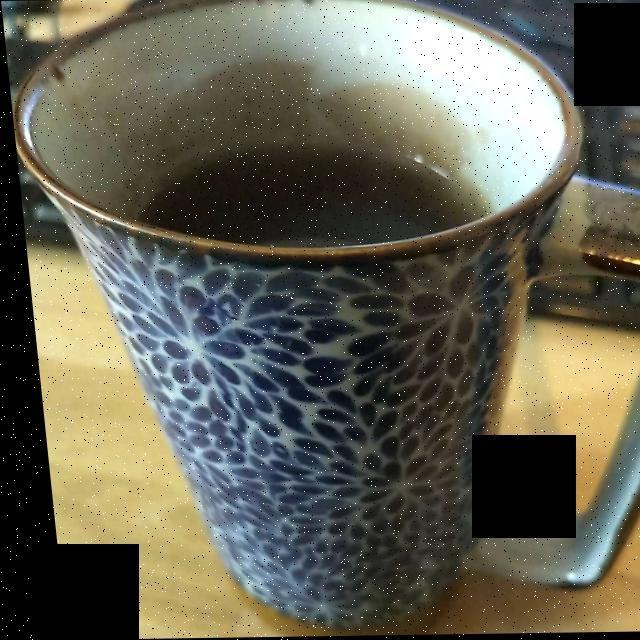tea: (131, 141, 472, 254)
